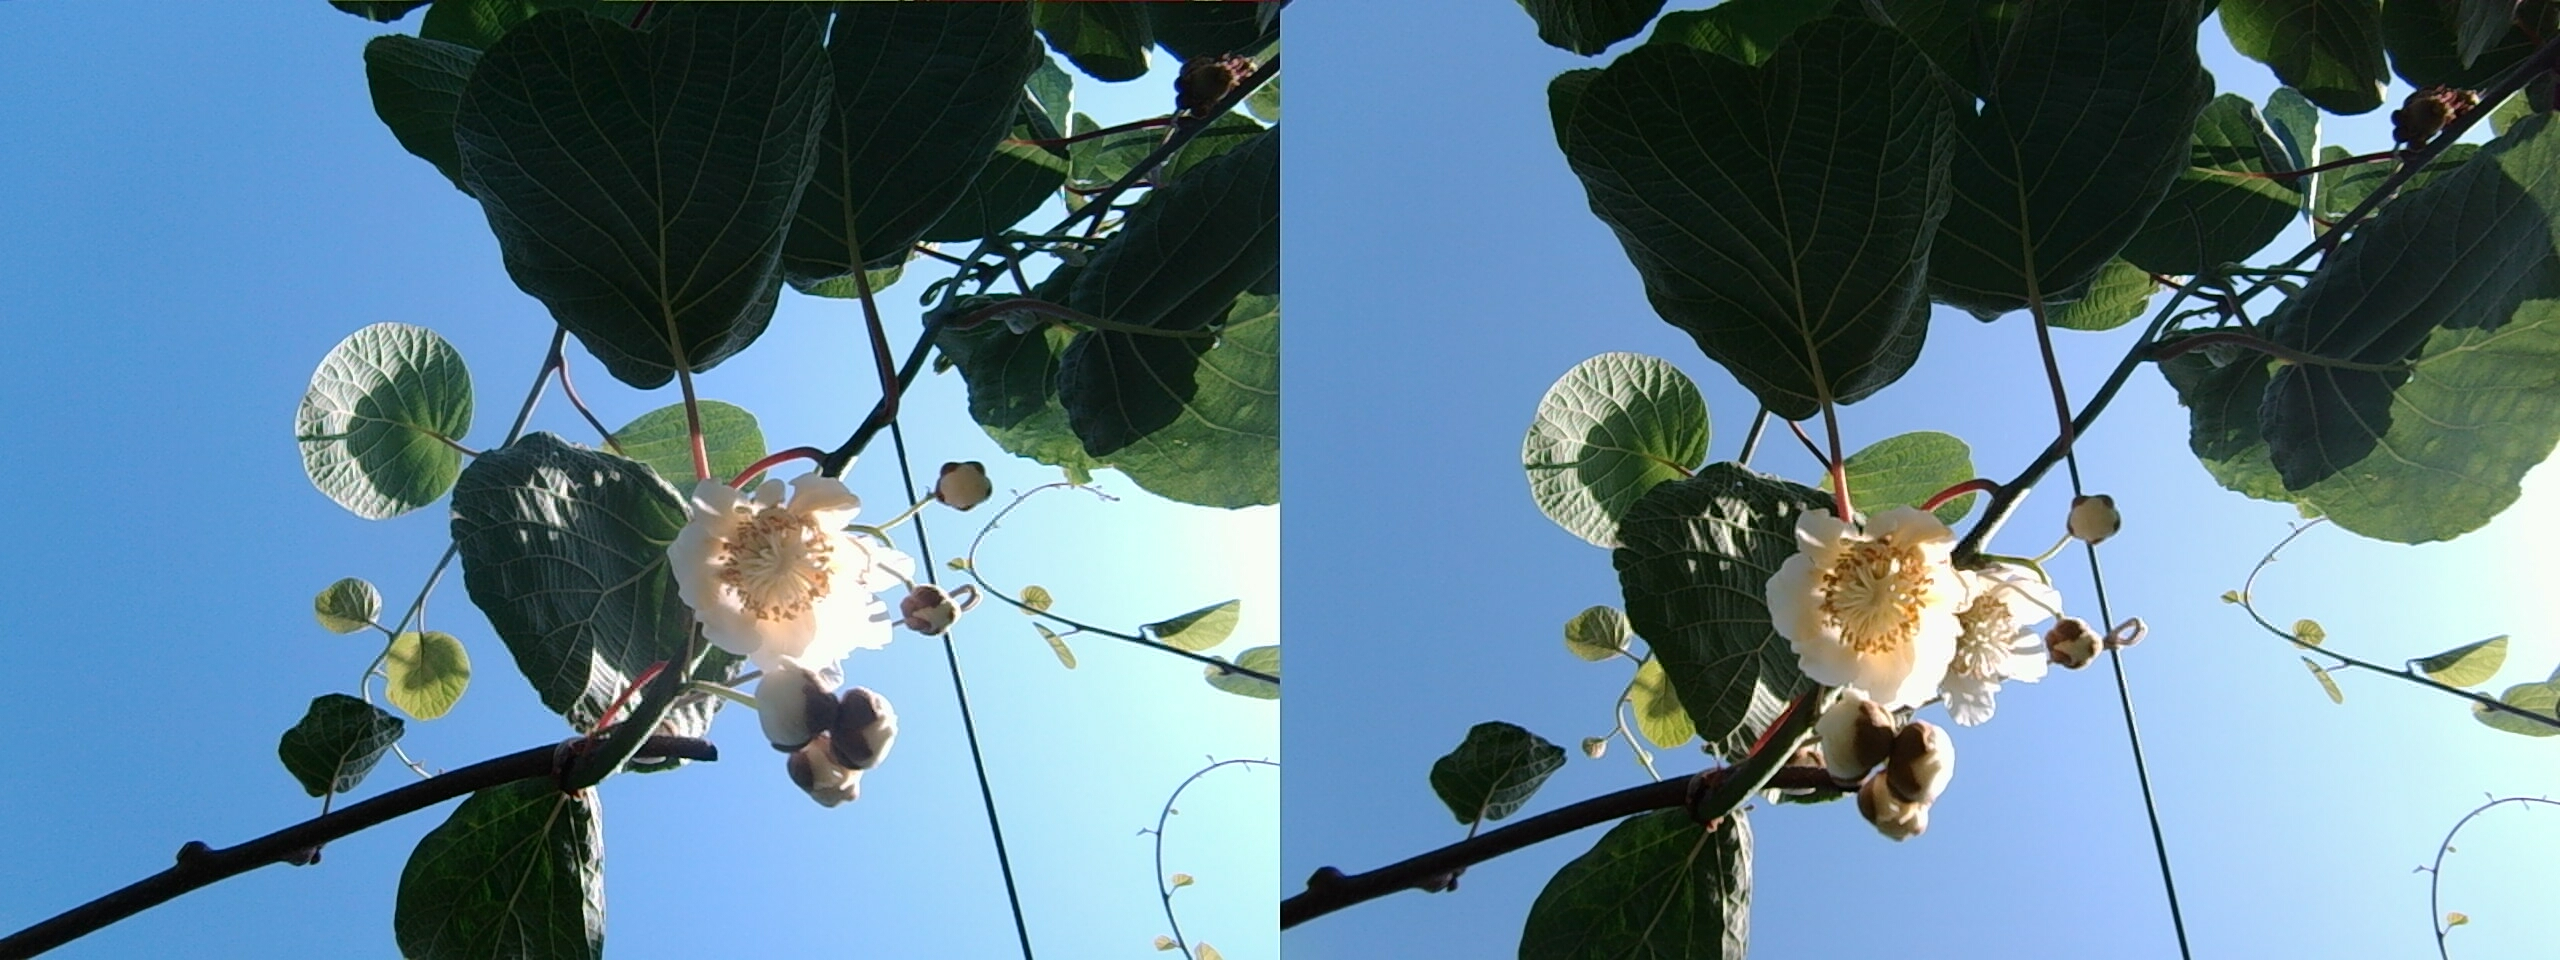flower: (661, 456, 927, 668), (1760, 495, 1977, 704), (1917, 558, 2103, 713)
